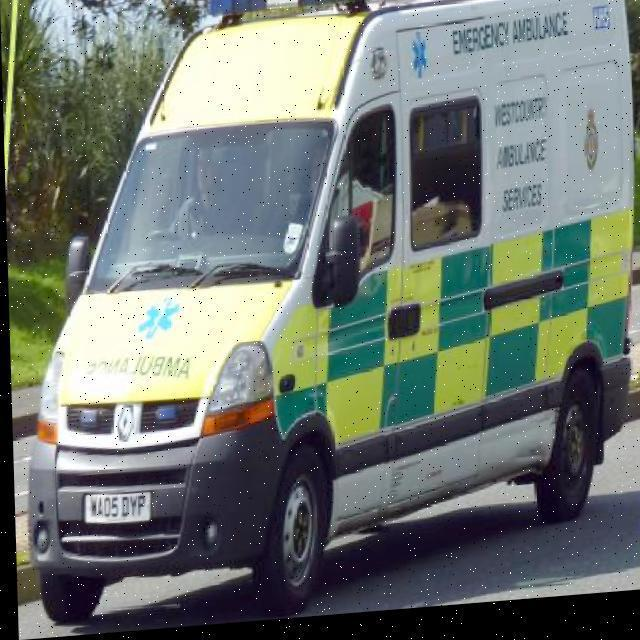Ambulance: (4, 0, 640, 637), (159, 146, 254, 250)
